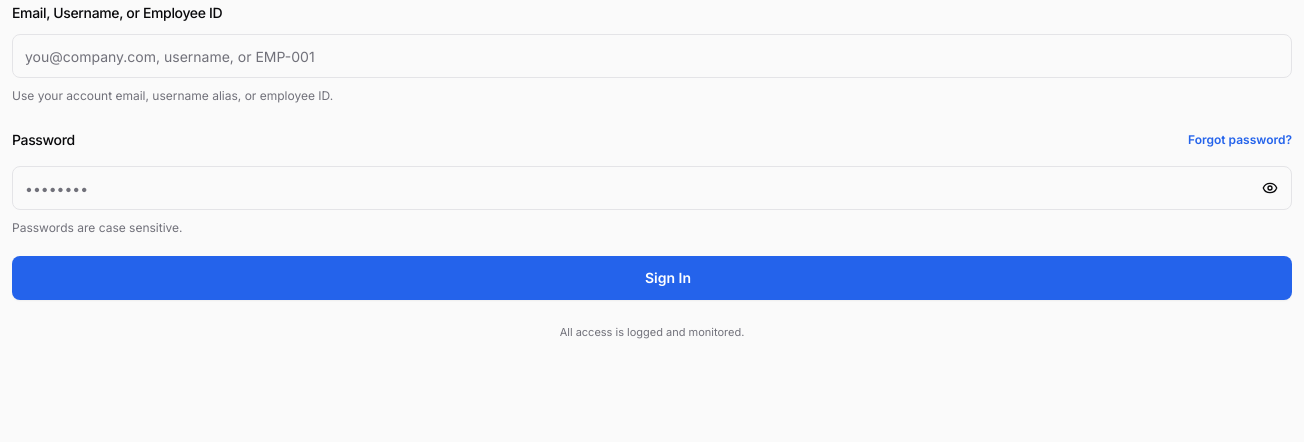
Test: LoginForm › shows network error banner on connectivity failures
Type "employee@company.com" into the field labelled "Email, Username, or Employee ID".
click(652, 56); type("employee@company.com")  # box x1=12 y1=34 x2=1292 y2=78
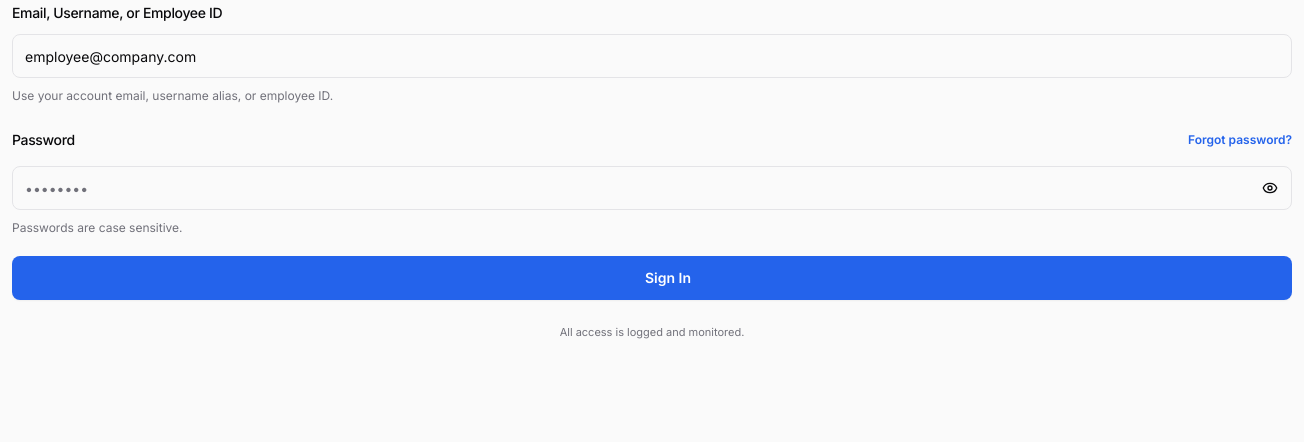
Type "StrongPass1!" into the password field labelled "Password".
click(652, 188); type("StrongPass1!")  # box x1=12 y1=166 x2=1292 y2=210
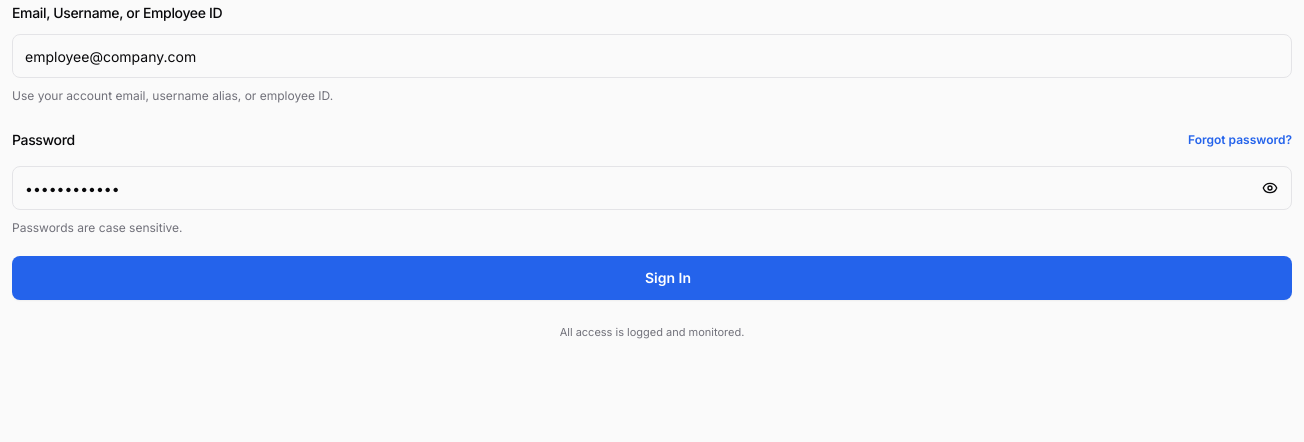
Click the button "Sign In".
click(652, 278)  # box x1=12 y1=256 x2=1292 y2=300
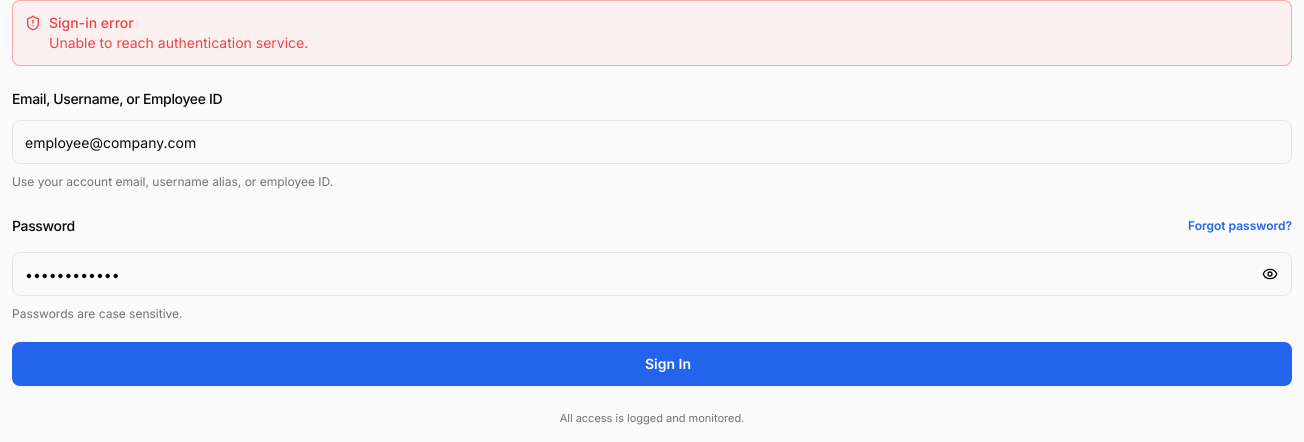
Expected: the message shows "Unable to reach authentication service", x1=49 y1=34 x2=308 y2=51
